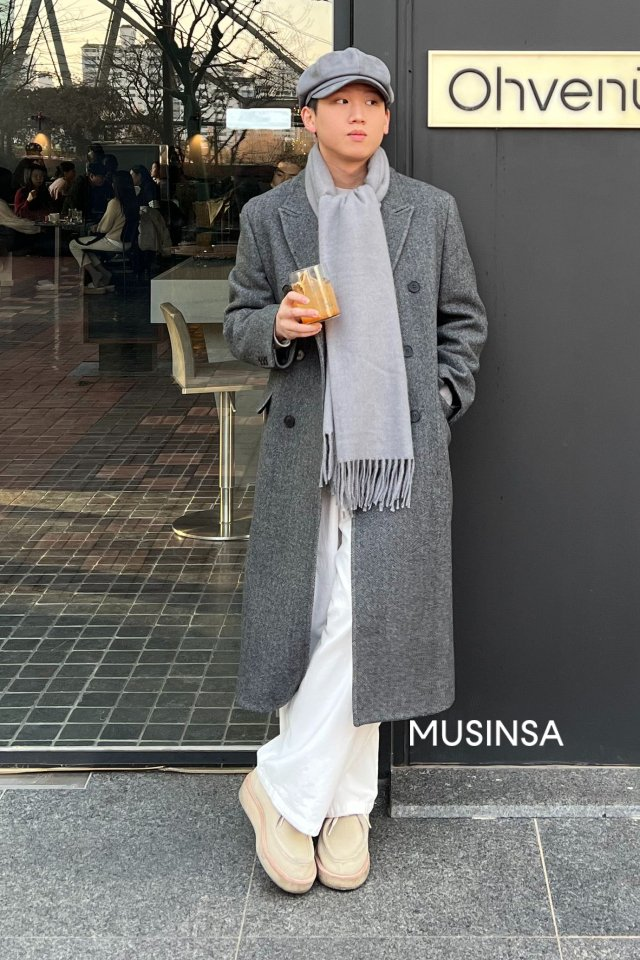Coat: (220, 165, 485, 734)
Hat: (289, 40, 402, 104)
Muffler: (301, 141, 412, 506)
Pants: (270, 563, 397, 816)
Shoes: (230, 767, 382, 899)
